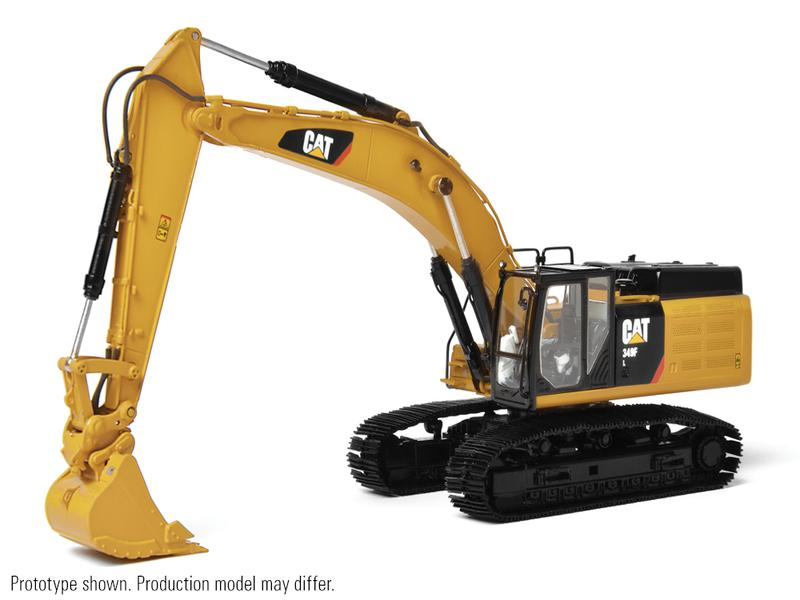shovel: (40, 25, 765, 569)
